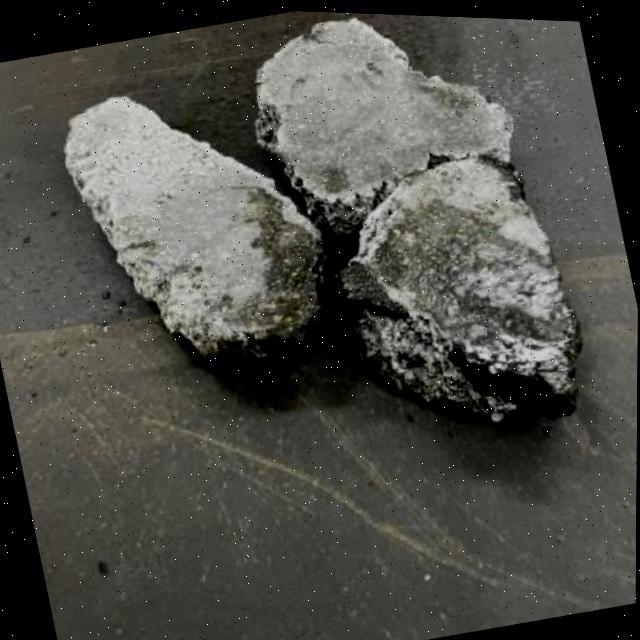Road Debris: (344, 165, 588, 412), (249, 7, 520, 200), (137, 139, 331, 342)
